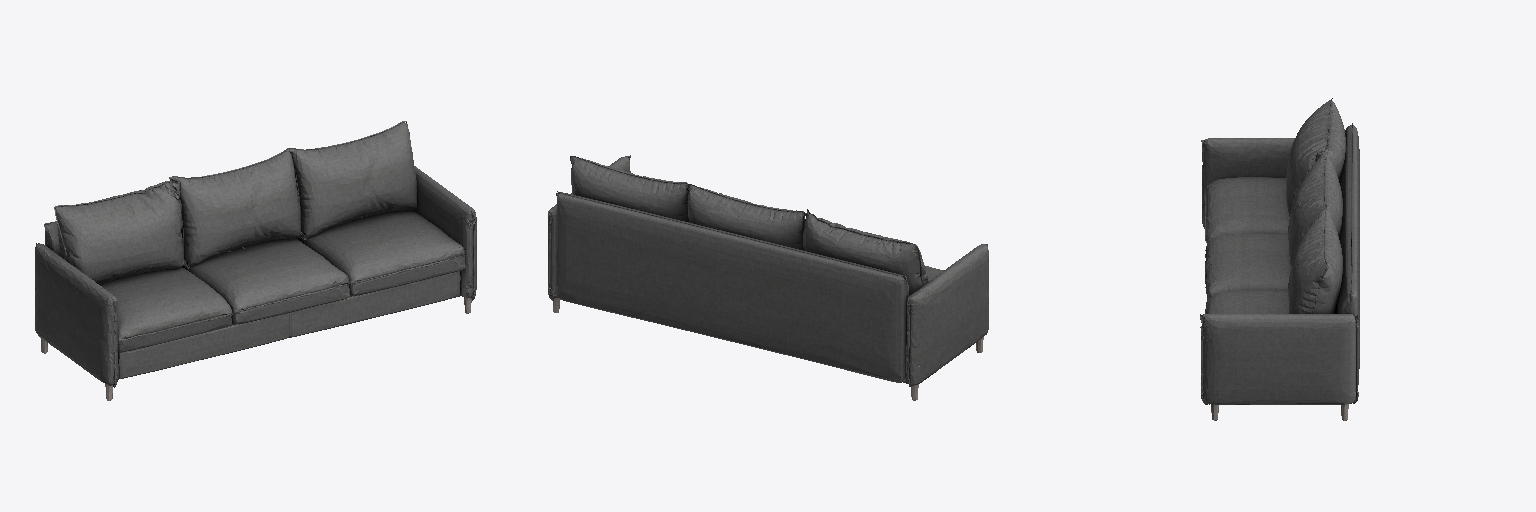
3 renders of one model, left to right at view 1: azimuth 30°, elevation 25°; view 2: azimuth 150°, elevation 25°; view 3: azimuth 270°, elevation 25°, orthographic.
Parts seen in each view (by area): view 1: solid_003; view 2: solid_003; view 3: solid_003.
Part boxes in pixels (x1,y1,x2,y2): solid_003: (35,121,476,387); solid_003: (548,155,988,386); solid_003: (1200,98,1359,404).
Size of the model in its own units: 2 by 0.7802 by 0.7378.
Materials: 1 (1 with a texture image).